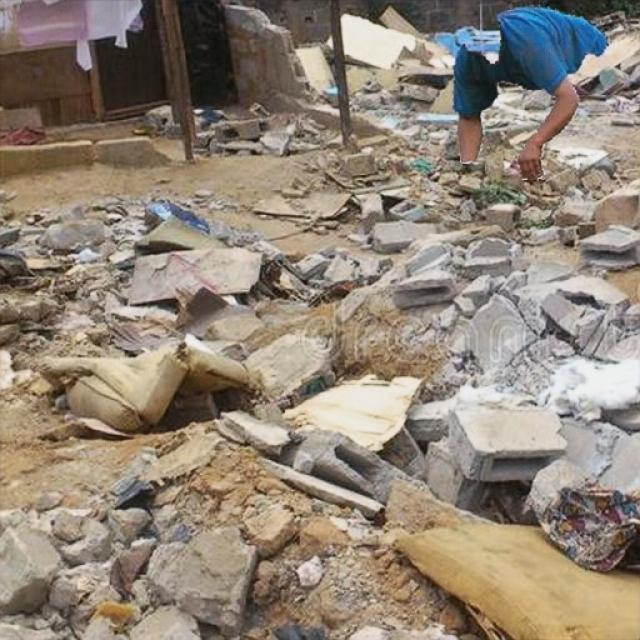Person in Rubble: (452, 5, 608, 179)
